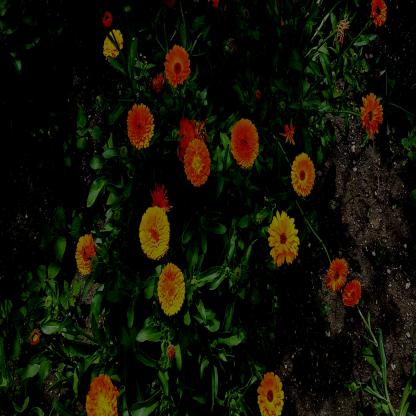marigold: (139, 206, 169, 257), (269, 214, 299, 264), (158, 262, 185, 313), (230, 119, 259, 166), (127, 105, 154, 151), (184, 140, 210, 187), (86, 377, 117, 415), (258, 372, 284, 416), (166, 47, 191, 82), (292, 153, 313, 194), (362, 94, 382, 131), (102, 30, 123, 60), (77, 236, 94, 272), (328, 257, 346, 290), (372, 0, 386, 27), (344, 282, 359, 306)
